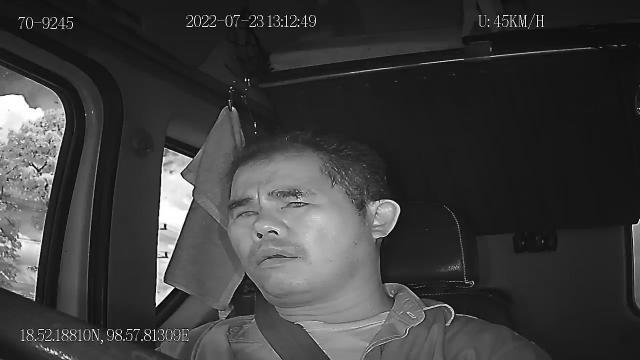SafeDriving: (272, 187, 318, 215), (230, 200, 264, 225)
Seatbelt: (254, 290, 332, 360)
